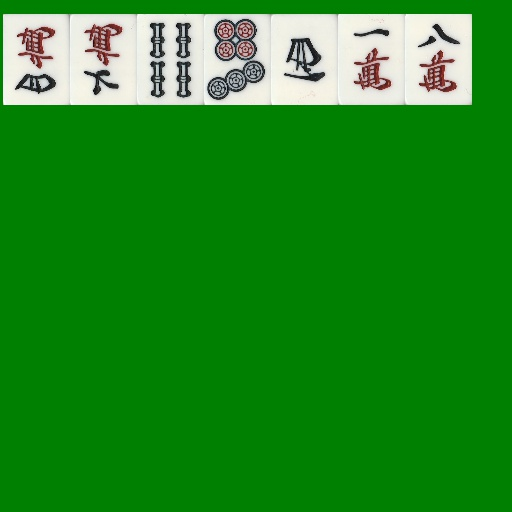1m: (338, 14, 405, 105)
4m: (3, 14, 70, 105)
4s: (137, 14, 204, 105)
7m: (70, 14, 137, 105)
7p: (204, 14, 271, 105)
8m: (405, 14, 472, 105)
west: (271, 14, 338, 105)
